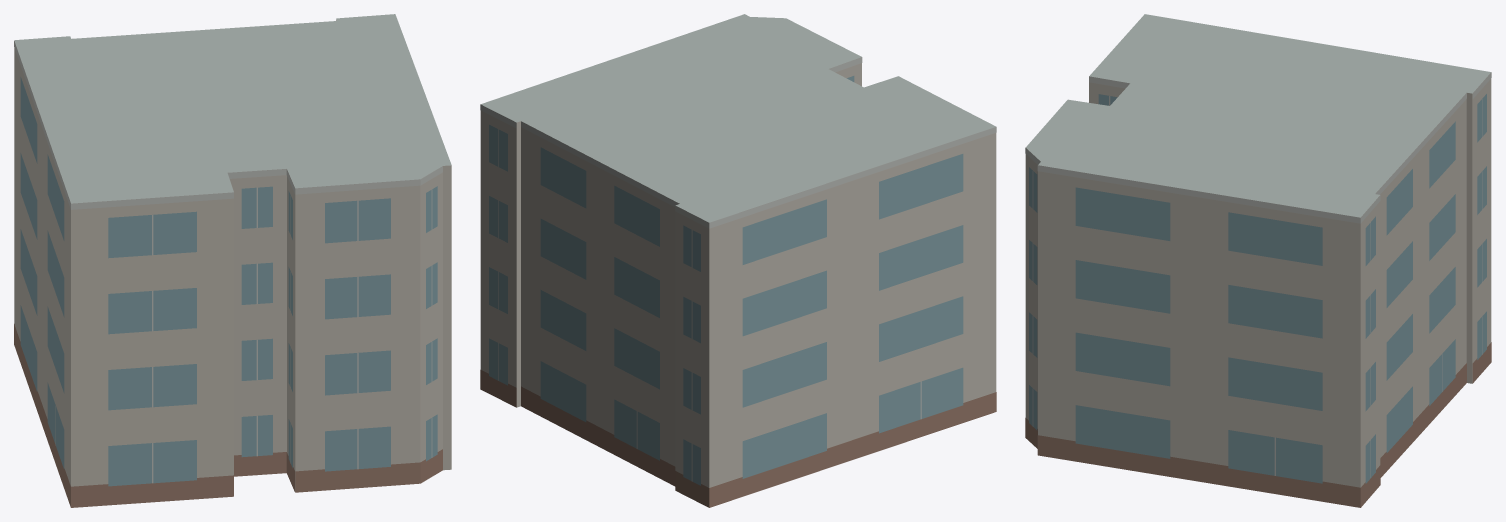
Rendered from survey-upis-32658241.glb.
3 renders of one model, left to right at view 1: azimuth 30°, elevation 25°; view 2: azimuth 150°, elevation 25°; view 3: azimuth 270°, elevation 25°, orthographic. The views are drawn at different scales.
Visible parts, largest first — view 1: survey-upis-32658241.tmp; view 2: survey-upis-32658241.tmp; view 3: survey-upis-32658241.tmp.
Part boxes in pixels (<box>): survey-upis-32658241.tmp: <box>14,14,451,507</box>; survey-upis-32658241.tmp: <box>480,14,996,507</box>; survey-upis-32658241.tmp: <box>1025,14,1491,507</box>.
Size of the model in its own units: 17.69 by 11.75 by 17.1.
